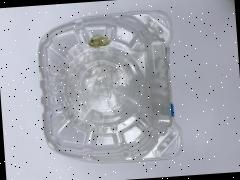plastic: (26, 6, 194, 175)
